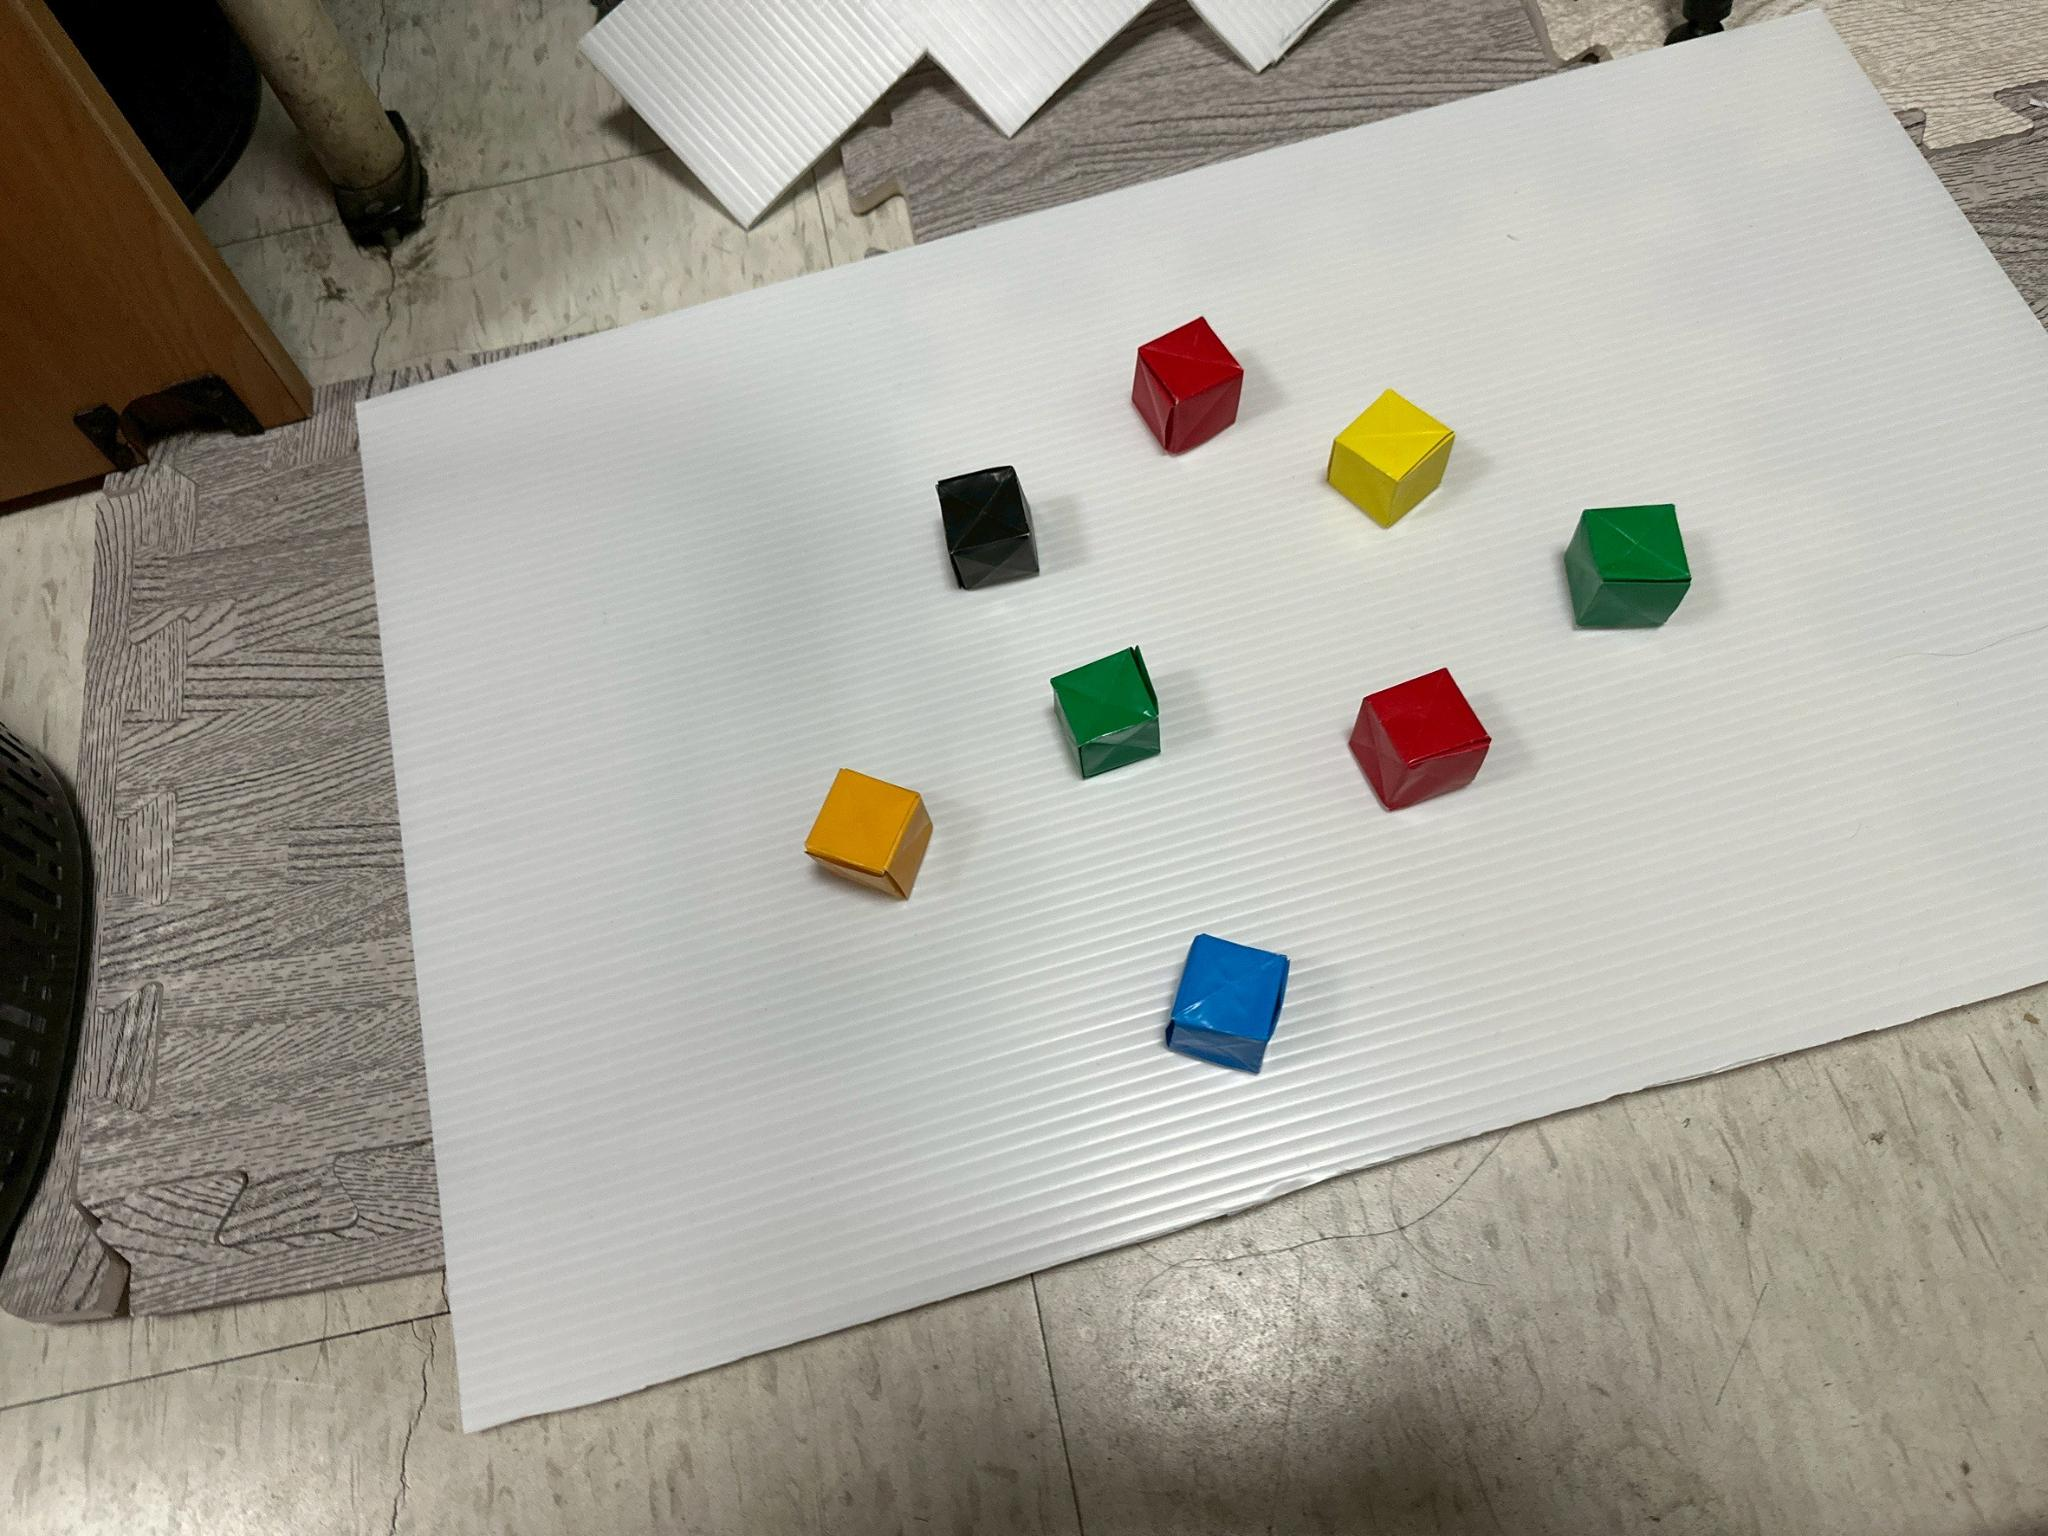base: (1350, 670, 1490, 810), (1326, 390, 1453, 526), (1166, 934, 1288, 1073), (805, 770, 932, 897), (1564, 505, 1690, 629), (1132, 318, 1243, 453), (1051, 649, 1159, 778), (937, 466, 1039, 591)
